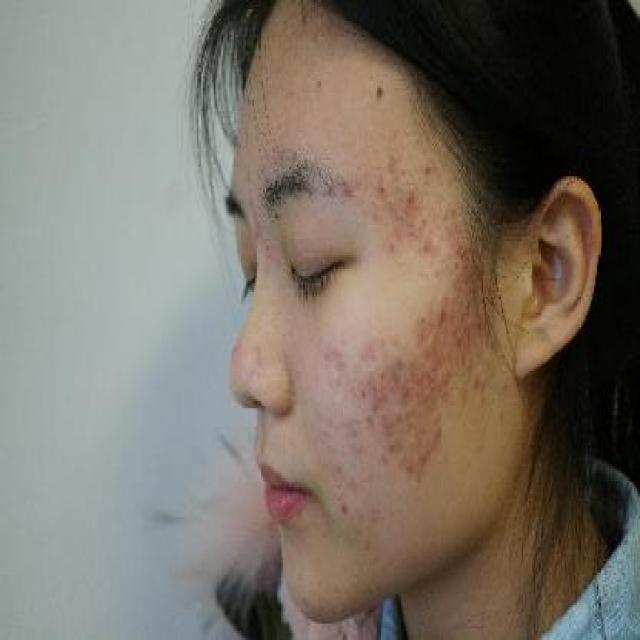pustules: (420, 362, 442, 389), (402, 181, 418, 211)
